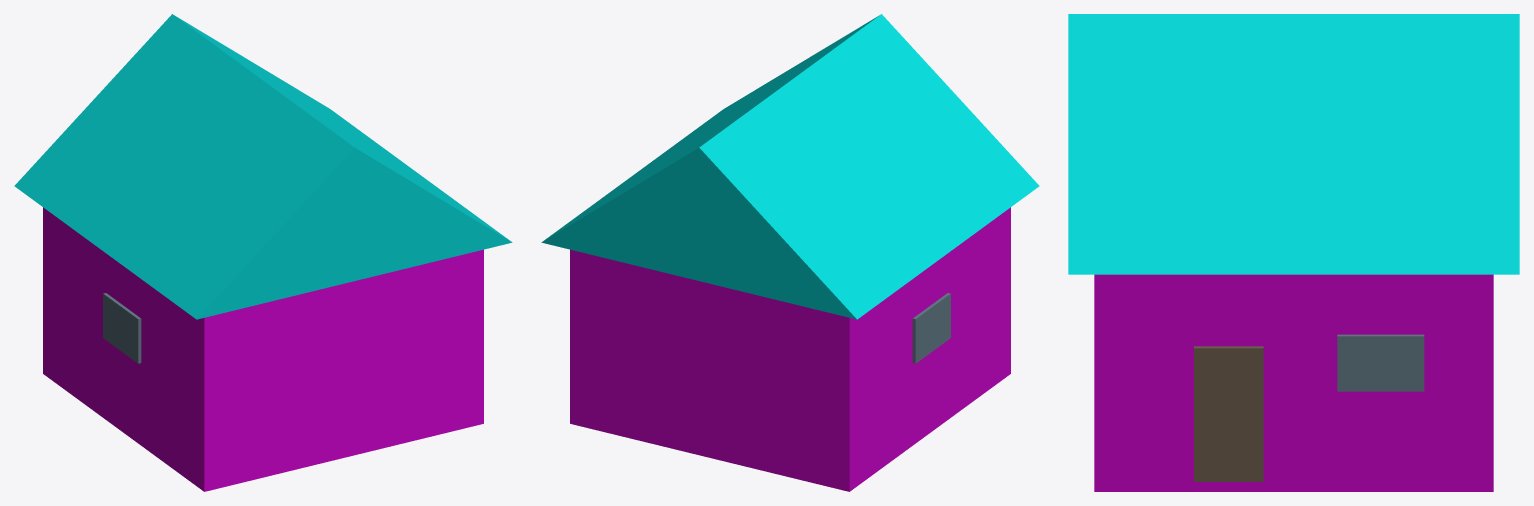
Rendered from rumah_jauh.glb.
3 renders of one model, left to right at view 1: azimuth 30°, elevation 25°; view 2: azimuth 150°, elevation 25°; view 3: azimuth 270°, elevation 25°, orthographic. The views are drawn at different scales.
Parts seen in each view (by area): view 1: main; view 2: main; view 3: main.
Part boxes in pixels (bbox=[...]): main: bbox=[14, 14, 512, 491]; main: bbox=[541, 14, 1039, 491]; main: bbox=[1068, 14, 1519, 491].
Size of the model in its own units: 1.04 by 1 by 1.04.
